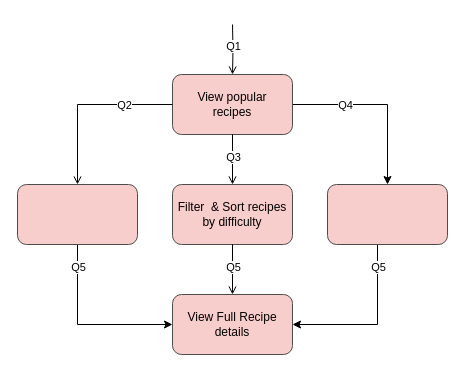
The diagram is 465 pixels wide and 372 high, and some of its shapes have lost their labels. The centre of each missing label's shape, as x and y in pixels:
"Get top-n recipes by label" belongs at (387,214).
"Search recipes by name" belongs at (77,214).
